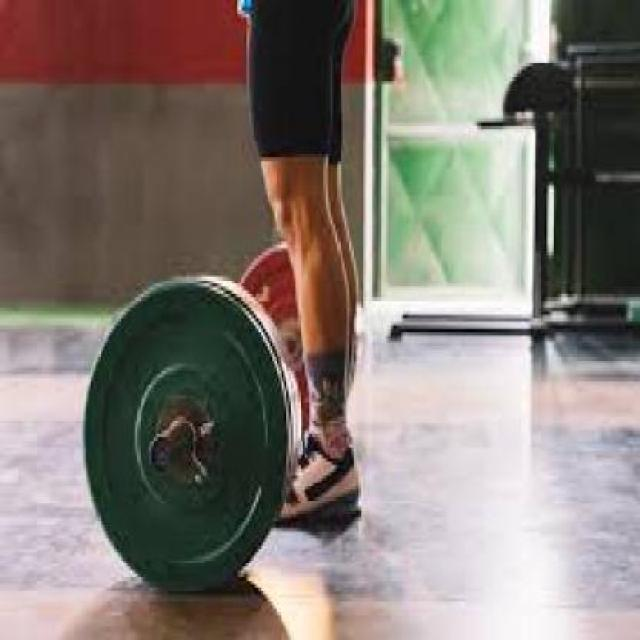barbell: (79, 270, 300, 609)
